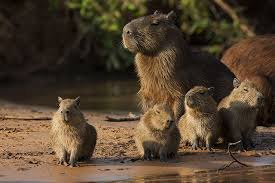capivara: (122, 9, 238, 107), (51, 96, 97, 168), (218, 78, 264, 150), (179, 84, 223, 152), (134, 102, 181, 163)
